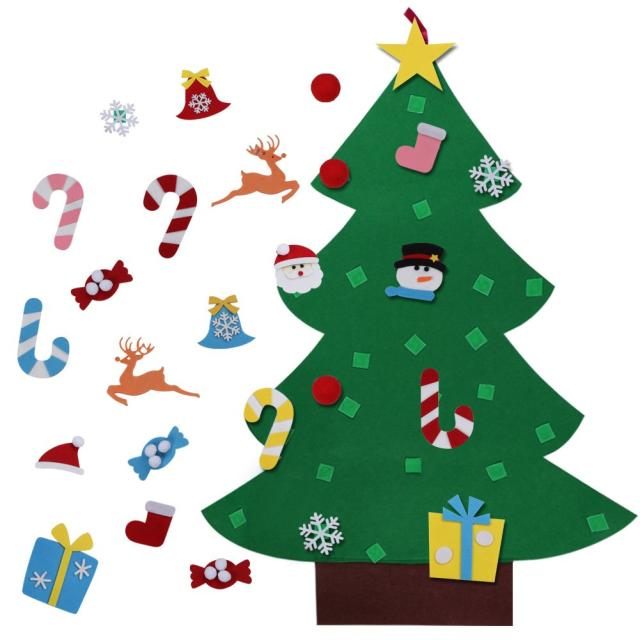Christmas-tree: (196, 1, 640, 556)
